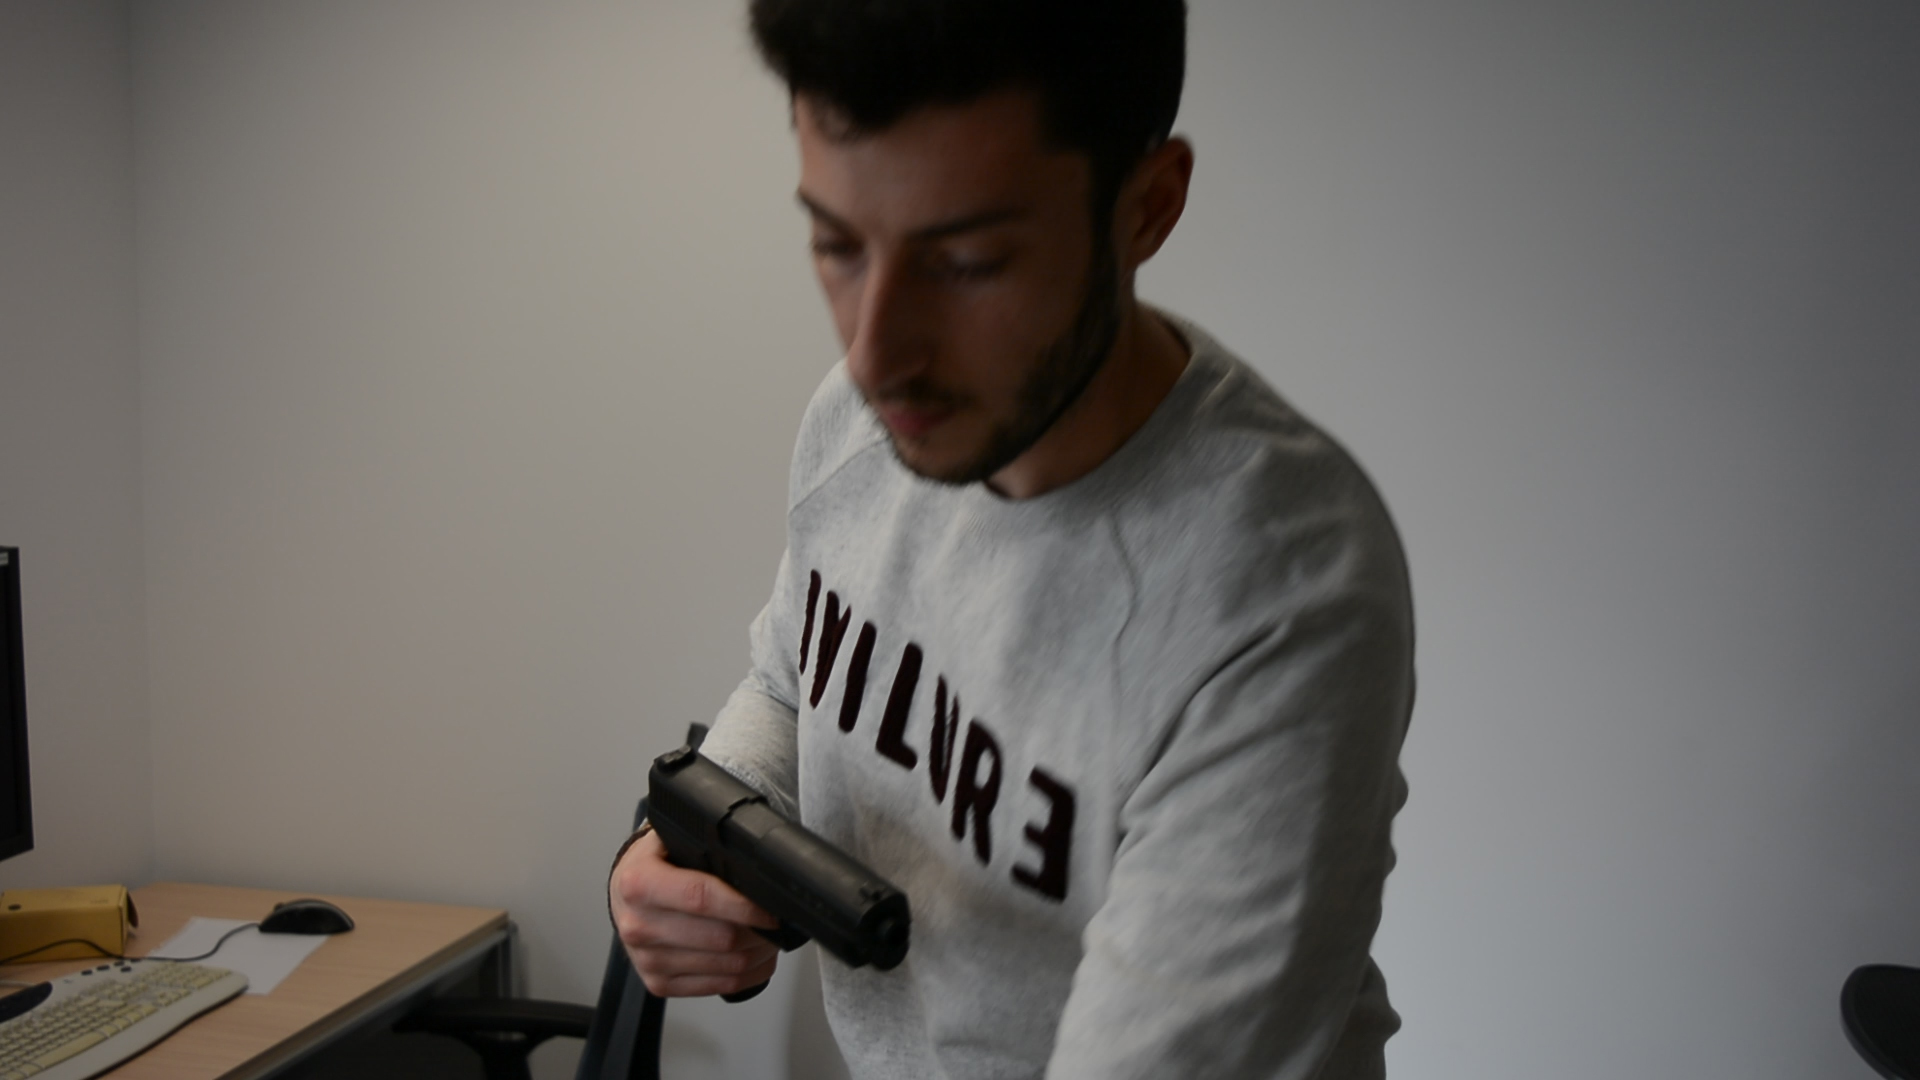pistol: (642, 741, 916, 1006)
